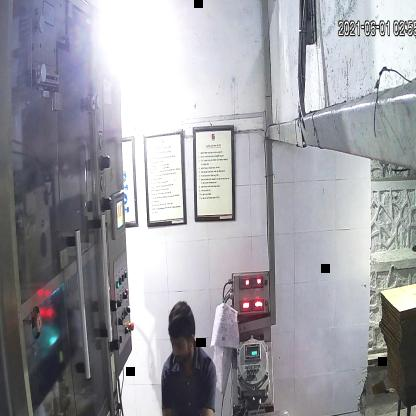no_goggles: (165, 332, 193, 356)
